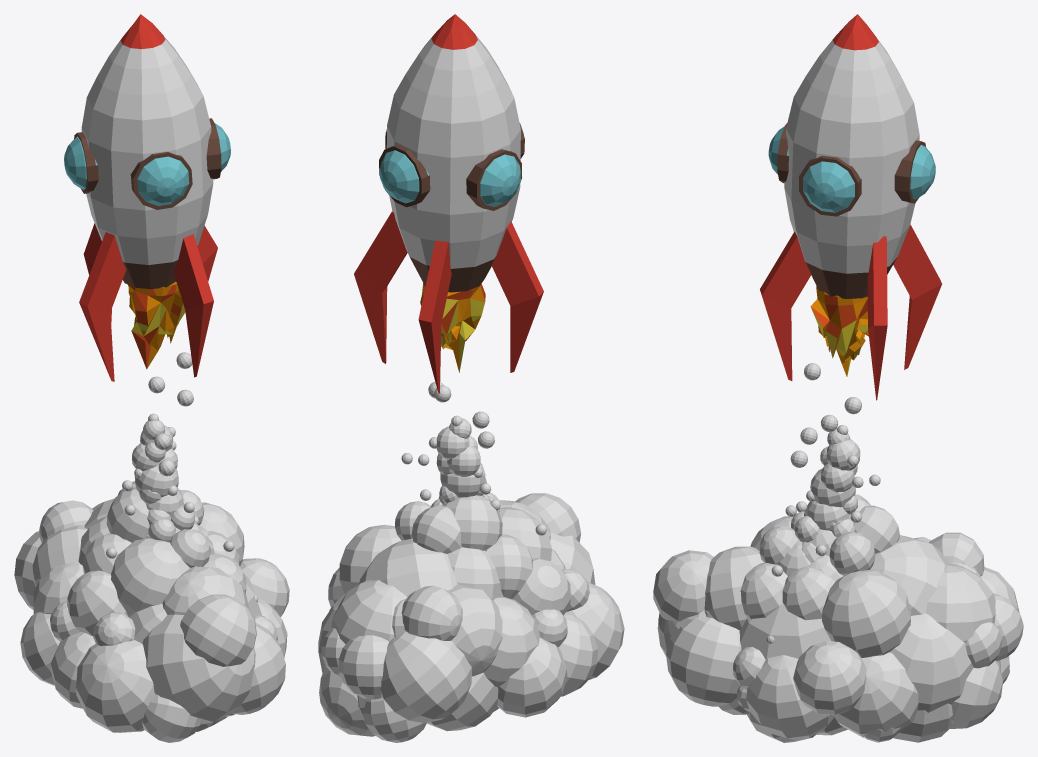
3 renders of one model, left to right at view 1: azimuth 30°, elevation 25°; view 2: azimuth 150°, elevation 25°; view 3: azimuth 270°, elevation 25°, orthographic. The views are drawn at different scales.
Visible parts, largest first — view 1: node_MeshObject972238336-PolyPaper21, node_MeshObject-583921856-PolyPaper21, node_MeshObject-1054288128-PolyPaper21, node_MeshObject817509056-PolyPaper21, node_MeshObject287427648-PolyPaper21; view 2: node_MeshObject972238336-PolyPaper21, node_MeshObject-583921856-PolyPaper21, node_MeshObject-1054288128-PolyPaper21, node_MeshObject817509056-PolyPaper21, node_MeshObject287427648-PolyPaper21; view 3: node_MeshObject972238336-PolyPaper21, node_MeshObject-1054288128-PolyPaper21, node_MeshObject817509056-PolyPaper21, node_MeshObject-583921856-PolyPaper21, node_MeshObject287427648-PolyPaper21.
Part boxes in pixels (bbox=[...]): node_MeshObject972238336-PolyPaper21: bbox=[64, 14, 239, 645]; node_MeshObject-583921856-PolyPaper21: bbox=[14, 448, 256, 732]; node_MeshObject-1054288128-PolyPaper21: bbox=[20, 389, 289, 724]; node_MeshObject817509056-PolyPaper21: bbox=[39, 420, 287, 742]; node_MeshObject287427648-PolyPaper21: bbox=[92, 352, 285, 714]; node_MeshObject972238336-PolyPaper21: bbox=[354, 14, 589, 711]; node_MeshObject-583921856-PolyPaper21: bbox=[357, 453, 624, 731]; node_MeshObject-1054288128-PolyPaper21: bbox=[318, 381, 595, 742]; node_MeshObject817509056-PolyPaper21: bbox=[321, 418, 551, 676]; node_MeshObject287427648-PolyPaper21: bbox=[319, 415, 502, 736]; node_MeshObject972238336-PolyPaper21: bbox=[760, 14, 941, 620]; node_MeshObject-1054288128-PolyPaper21: bbox=[657, 414, 1023, 742]; node_MeshObject817509056-PolyPaper21: bbox=[704, 428, 1001, 739]; node_MeshObject-583921856-PolyPaper21: bbox=[653, 463, 1019, 742]; node_MeshObject287427648-PolyPaper21: bbox=[666, 363, 1002, 728].
Bounding box in the file's own units: 0.491 × 1.35 × 0.6365.
